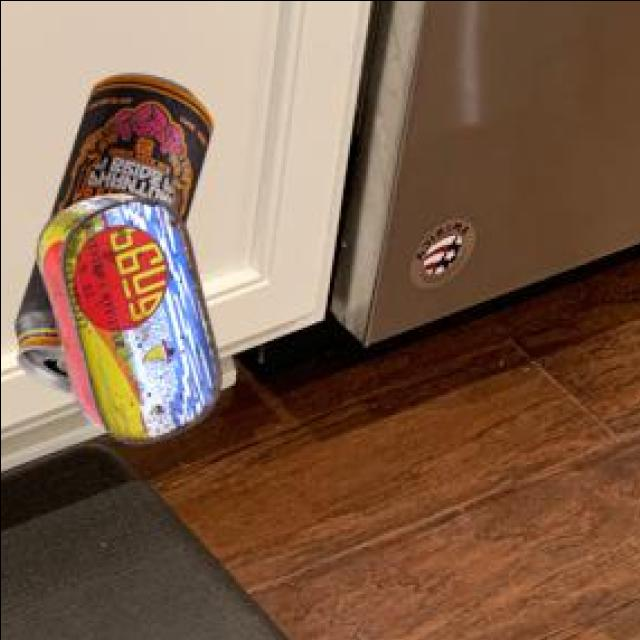logam: (19, 70, 216, 388), (39, 189, 223, 440)
